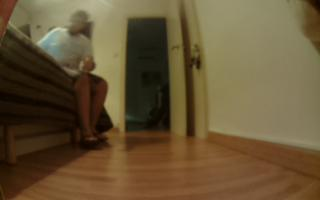person: (34, 9, 116, 151)
